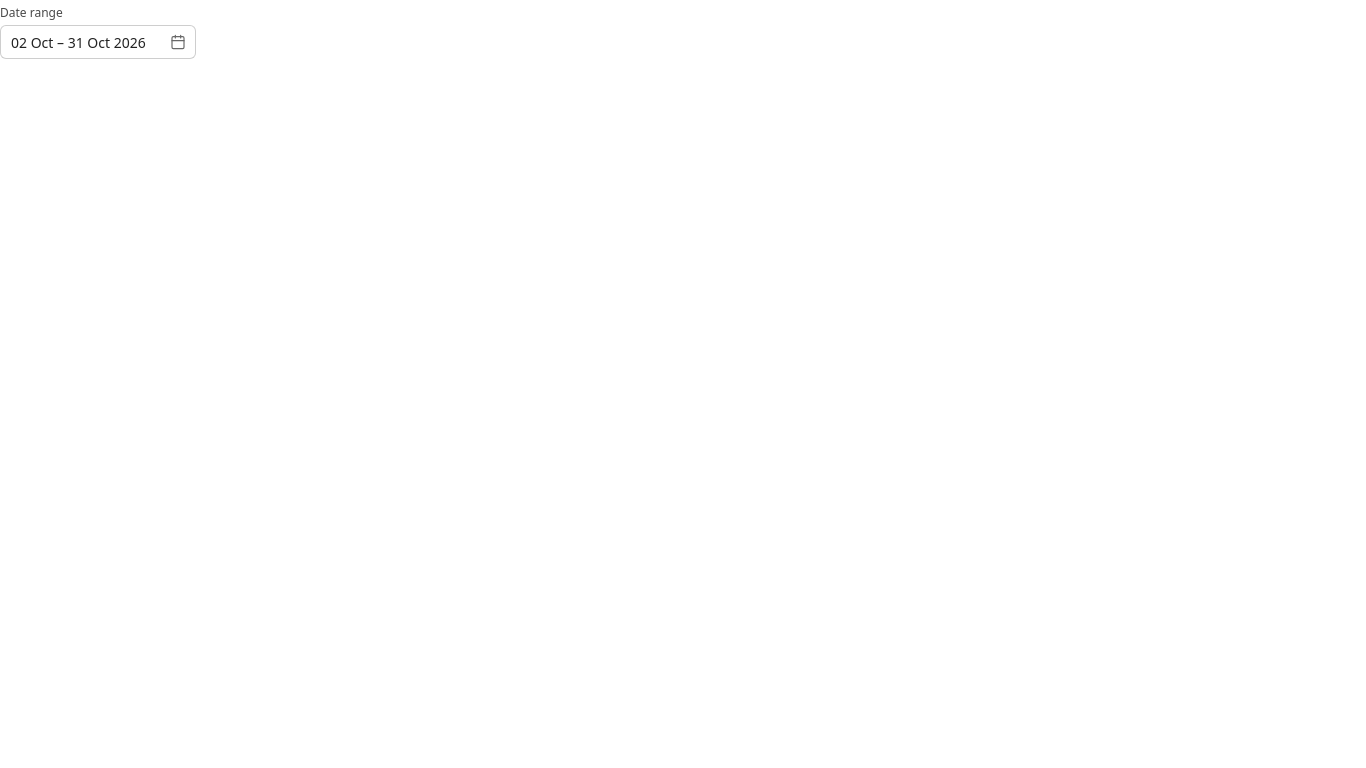
Scenario: DateRangePicker › shows the range in one field and opens a calendar on the current month
Click the button named "Date range 02 Oct – 31 Oct 2026".
click(98, 42)  # box [0,25,196,59]
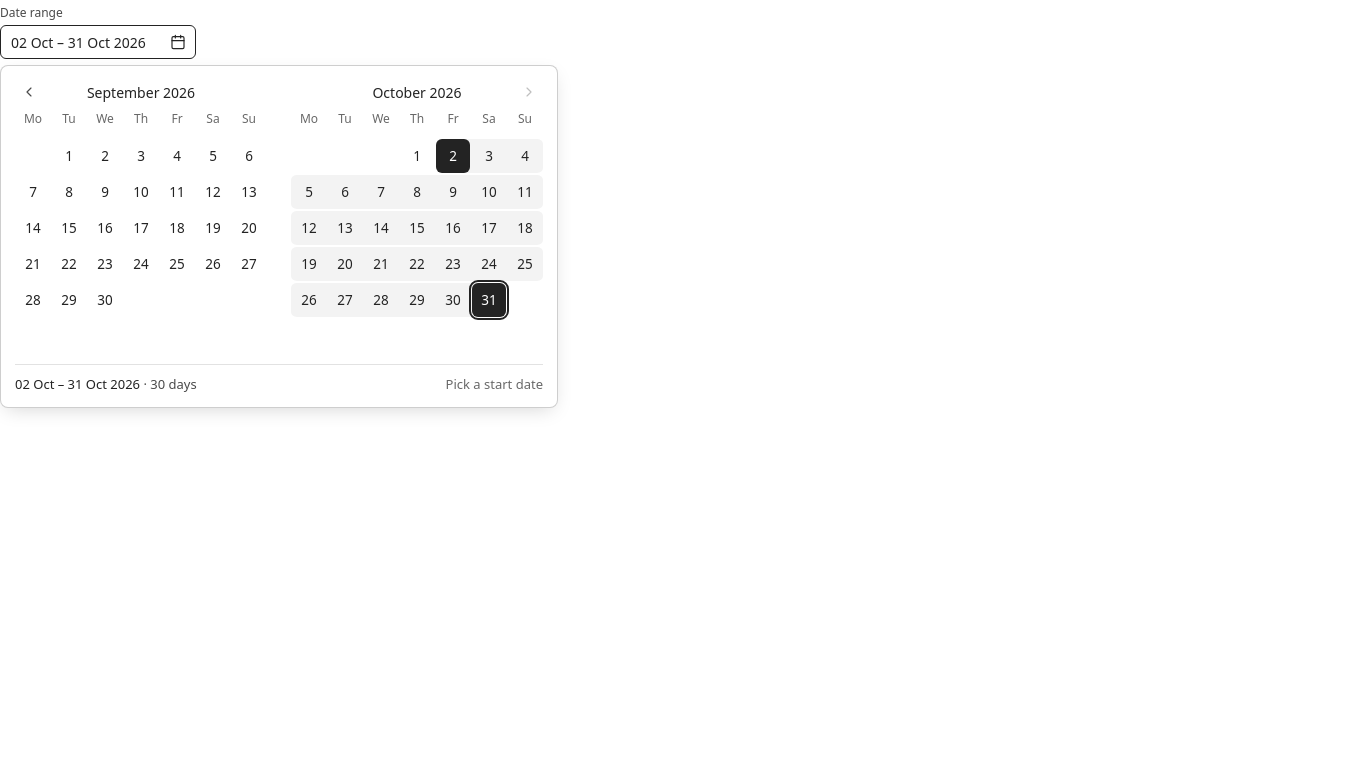
Expected: the text "October 2026" is shown, [372,82,462,102]
Expected: the text "· 30 days" is shown, [140,375,197,393]
